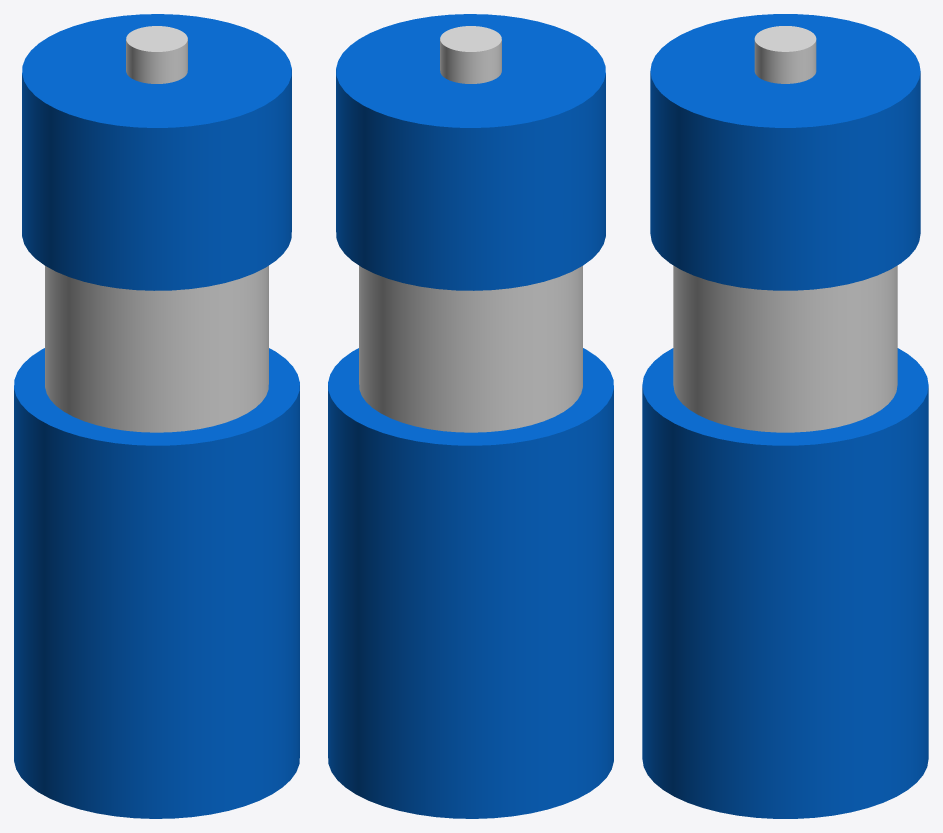
File: Flasche.glb
3 views of the same model, side by side, from view 1: azimuth 30°, elevation 25°; view 2: azimuth 150°, elevation 25°; view 3: azimuth 270°, elevation 25° (orthographic).
Visible parts, largest first — view 1: Cylinder; view 2: Cylinder; view 3: Cylinder.
Boxes of the visible parts, x1,y1,x2,y2 form: Cylinder: [14, 14, 299, 818]; Cylinder: [328, 14, 613, 818]; Cylinder: [642, 14, 928, 818].
Size of the model in its own units: 0.1016 by 0.2825 by 0.1019.
